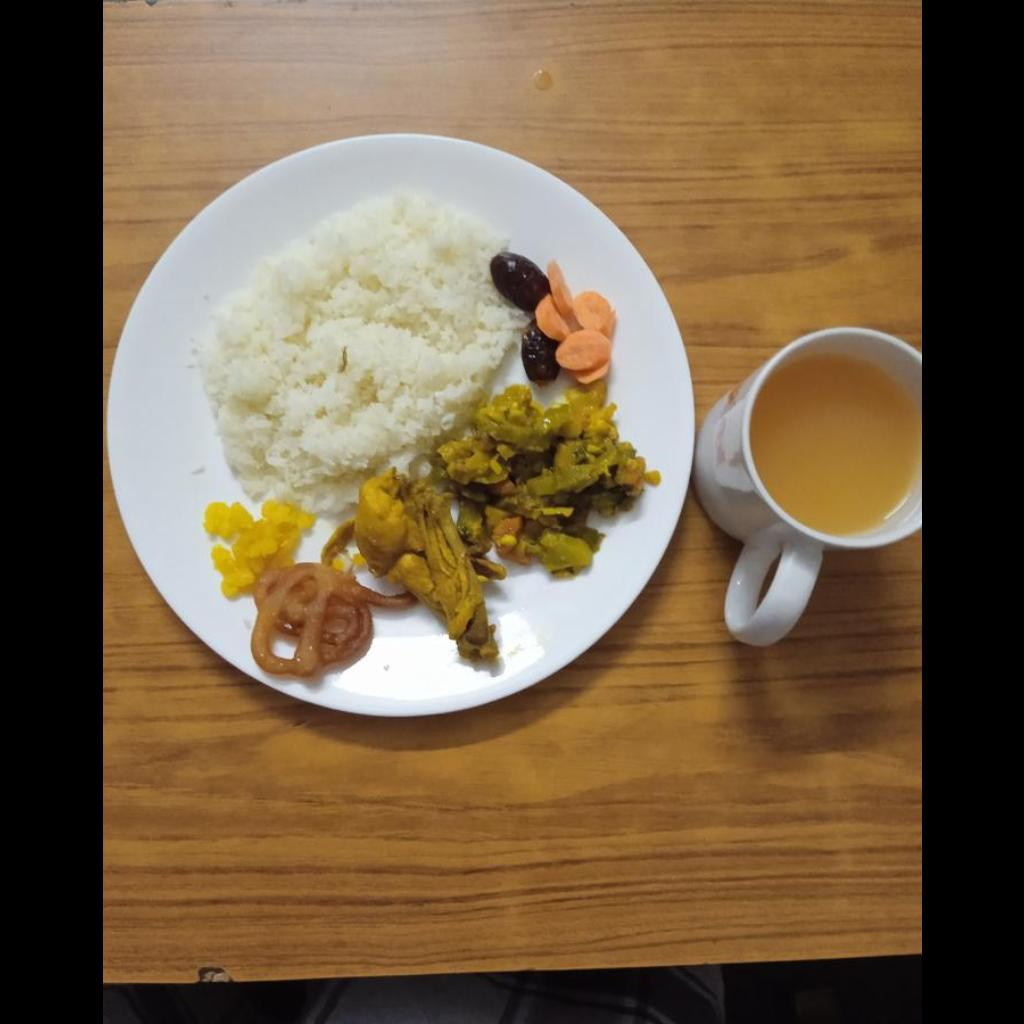burinda: (202, 501, 314, 598)
carrot: (534, 262, 613, 382)
chicken: (340, 470, 497, 661)
dates: (490, 251, 558, 382)
jilapi: (251, 563, 409, 679)
juice: (752, 353, 920, 533)
rice: (195, 196, 518, 518)
vegetable: (435, 386, 657, 576)
